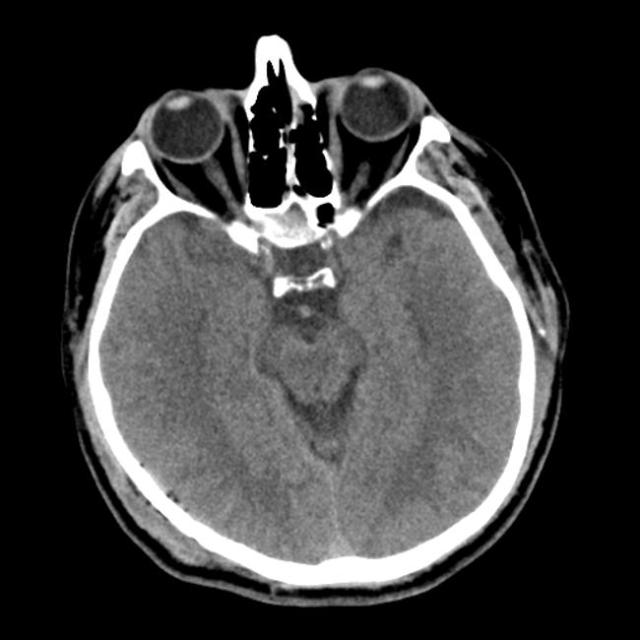lesion: (58, 32, 573, 604)
